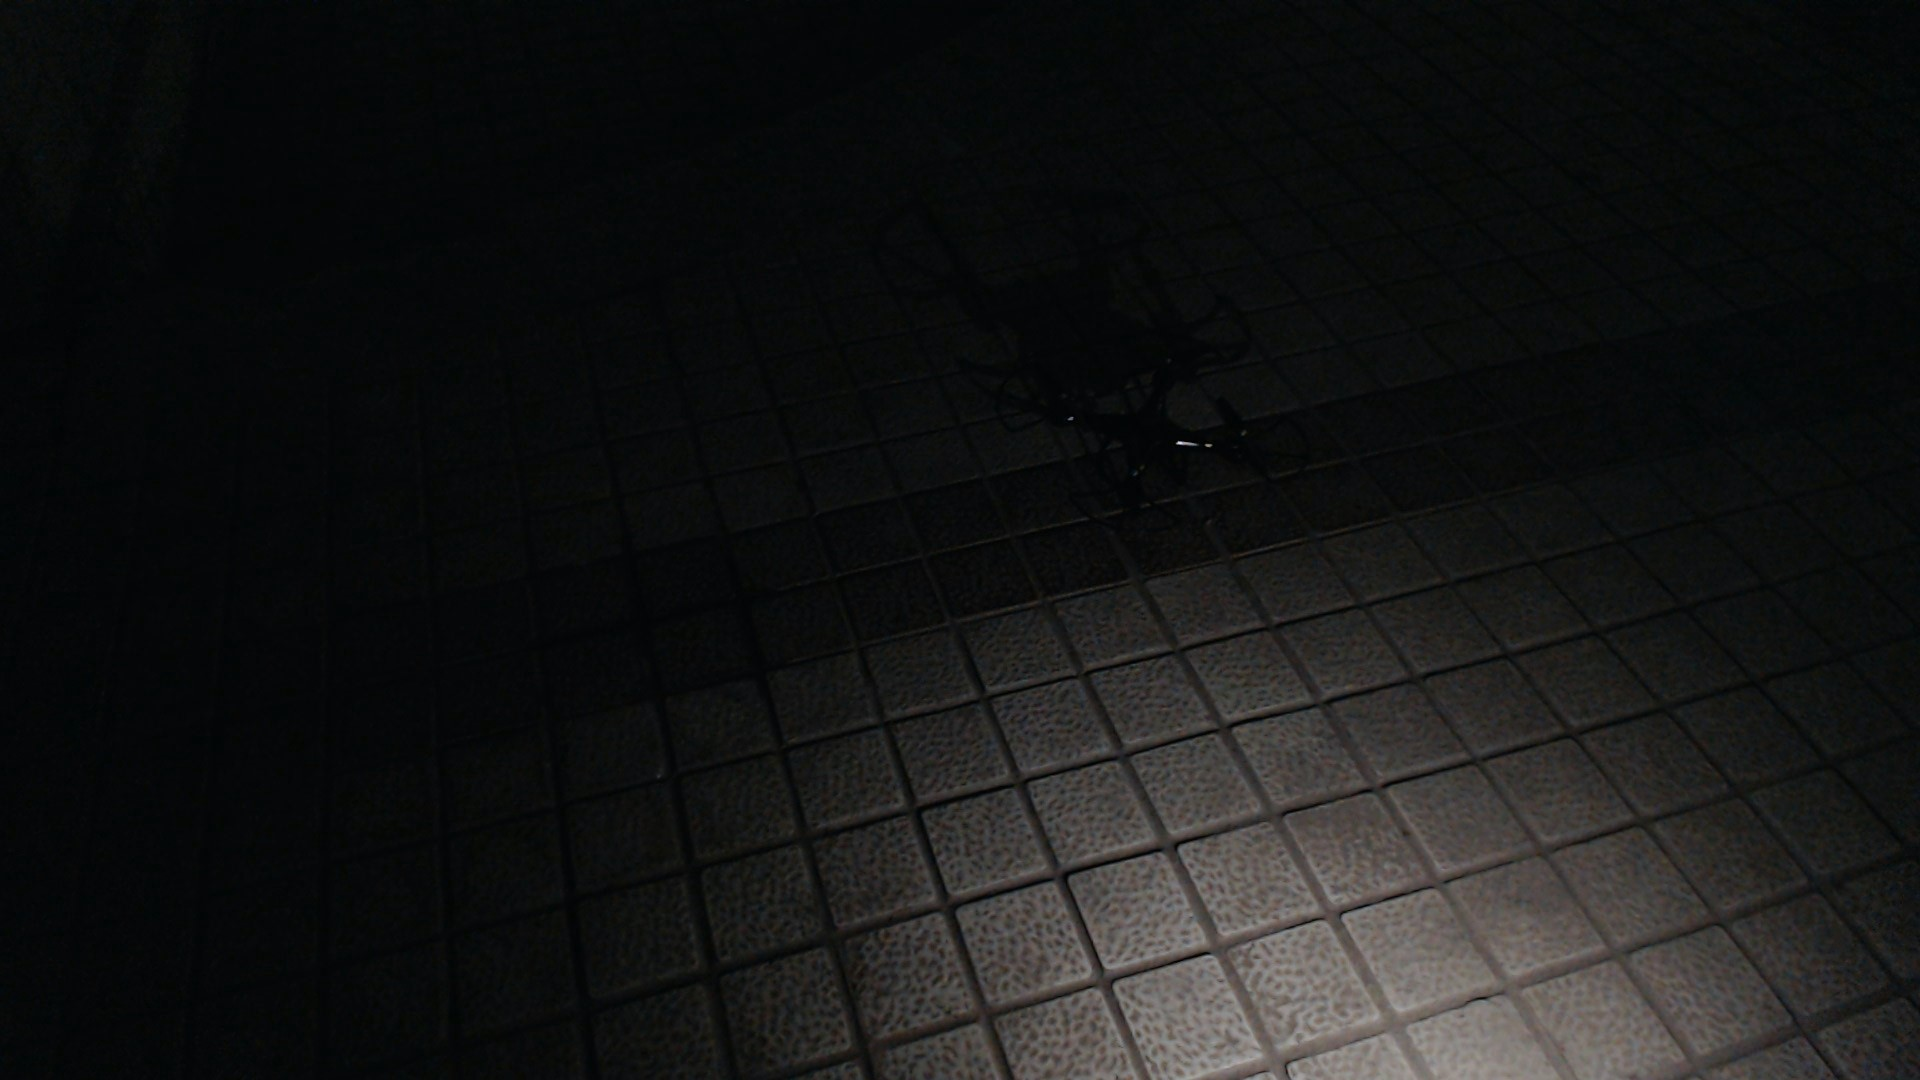drone_shadow: (873, 179, 1261, 385)
test_drone: (986, 316, 1316, 545)
